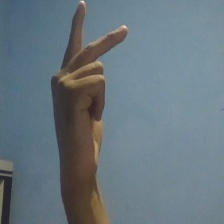K: (46, 1, 130, 180)
